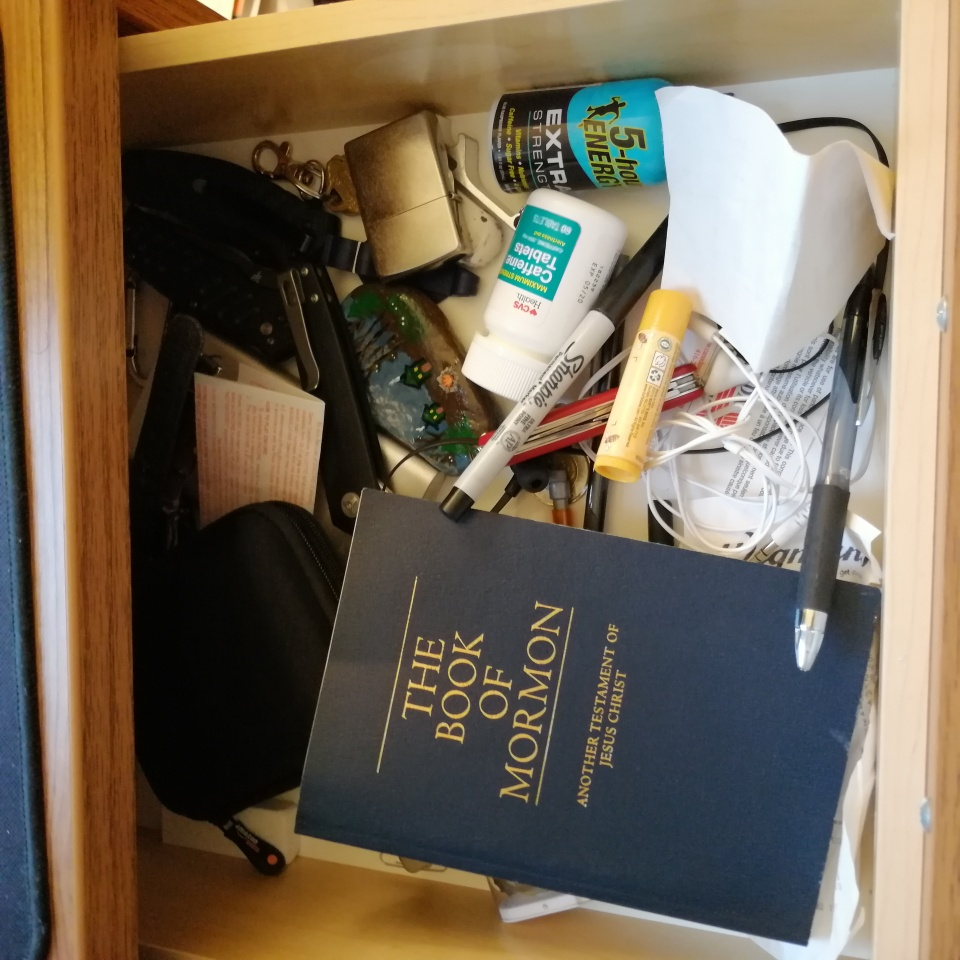chapstick: (594, 289, 693, 485)
